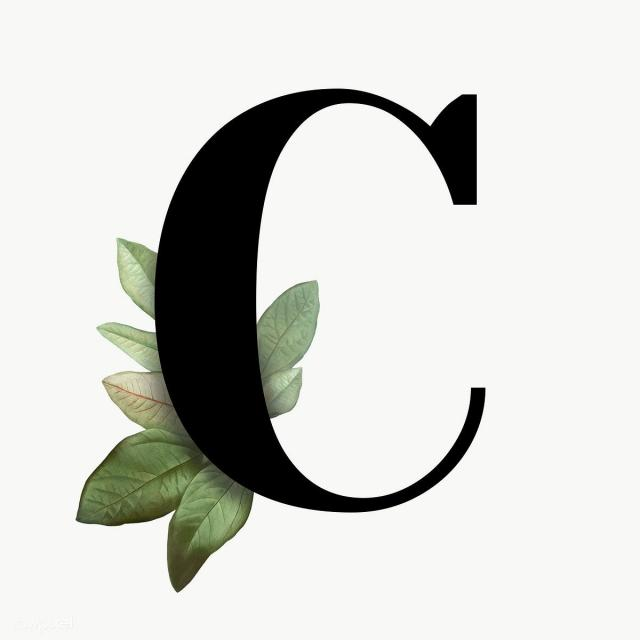C: (89, 3, 526, 553)
